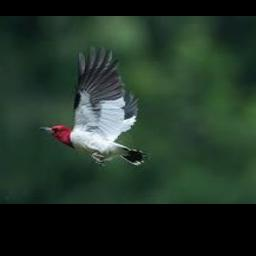Woodpecker: (40, 45, 150, 166)
